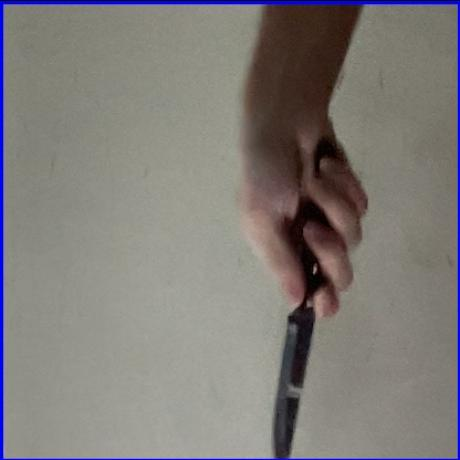1: (234, 3, 370, 319)
weapon: (268, 134, 340, 460)
